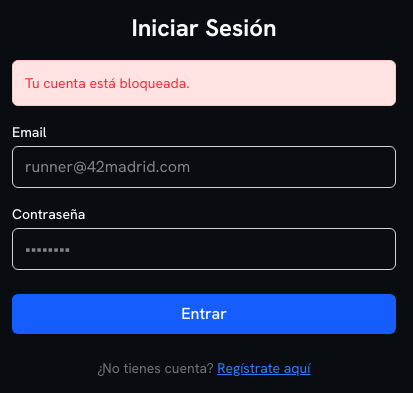
Test: LoginForm › replaces the notice with the error of a failed login attempt
In the field labelled "Email": (204, 167) x1=12 y1=146 x2=396 y2=188, type "athlete1@demo.local"
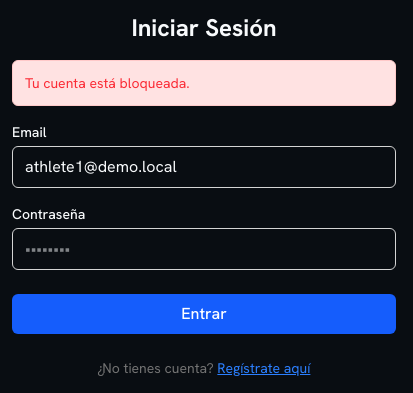
In the password field labelled "Contraseña": (204, 249) x1=12 y1=228 x2=396 y2=270, type "wrong-password"
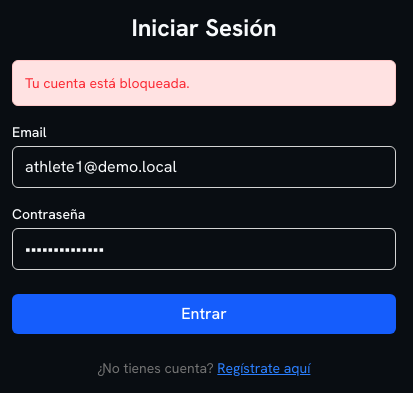
Click the button "Entrar": (204, 314) x1=12 y1=294 x2=396 y2=334
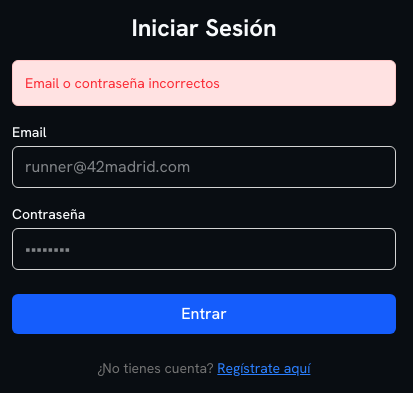
Result: the text "Email o contraseña incorrectos" is shown at x1=12 y1=60 x2=396 y2=106
Result: the text "Tu cuenta está bloqueada." is gone
